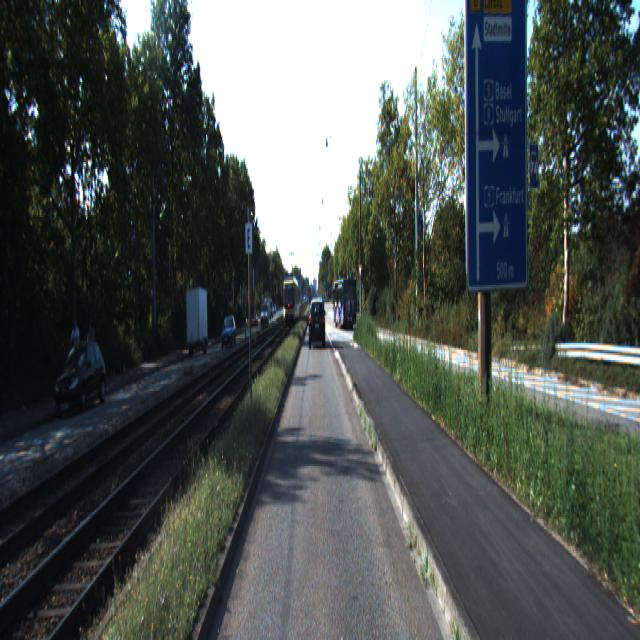Car: (54, 338, 108, 417), (309, 298, 325, 347), (220, 316, 237, 351)
DontCare: (250, 295, 276, 331)
Misc: (185, 285, 208, 355)
Truck: (333, 275, 357, 328)
